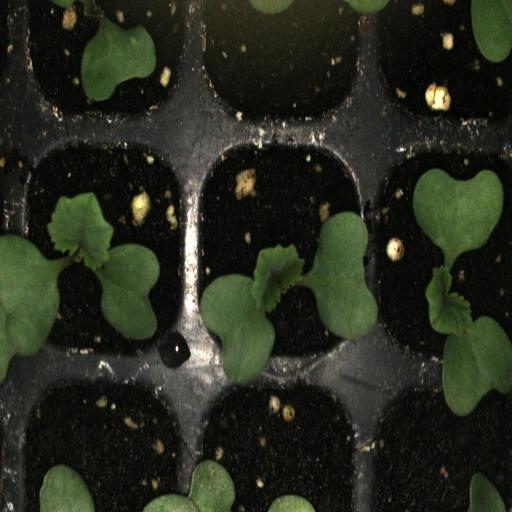seedling: (12, 136, 194, 370), (194, 135, 366, 375), (371, 132, 512, 374)
